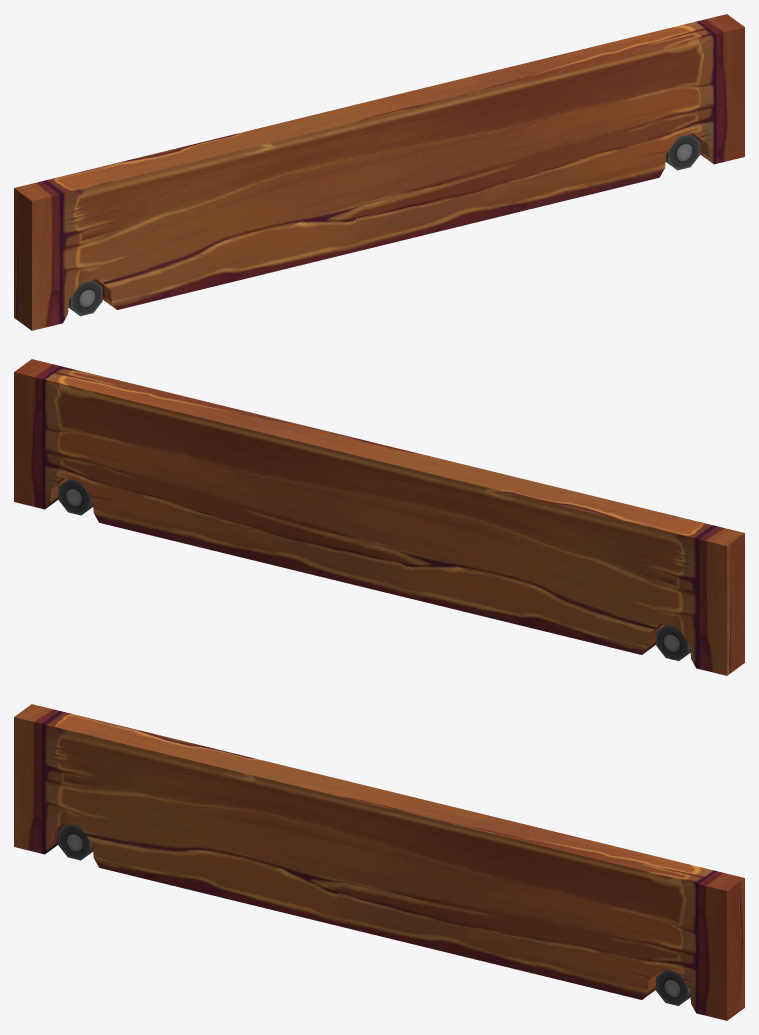
Rendered from dynamic_fence_wood_03.fbx.
3 views of the same model, one above another, from view 1: azimuth 30°, elevation 25°; view 2: azimuth 150°, elevation 25°; view 3: azimuth 330°, elevation 25° (orthographic).
Parts seen in each view (by area): view 1: dynamic_fence_wood_03; view 2: dynamic_fence_wood_03; view 3: dynamic_fence_wood_03.
Part boxes in pixels (x1,y1,x2,y2): dynamic_fence_wood_03: (14,14,744,330); dynamic_fence_wood_03: (14,359,744,675); dynamic_fence_wood_03: (14,704,744,1020).
Size of the model in its own units: 230 by 40 by 10.08.
